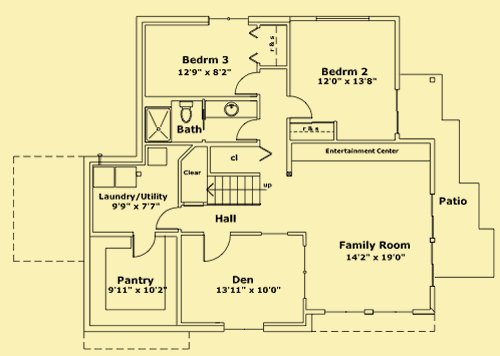this bathroom has shower space, small and large sink: (134, 94, 264, 148)
